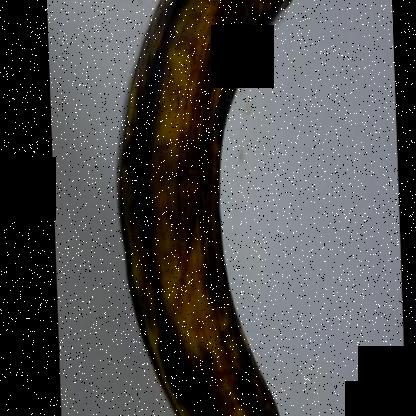overripe: (116, 0, 332, 415)
